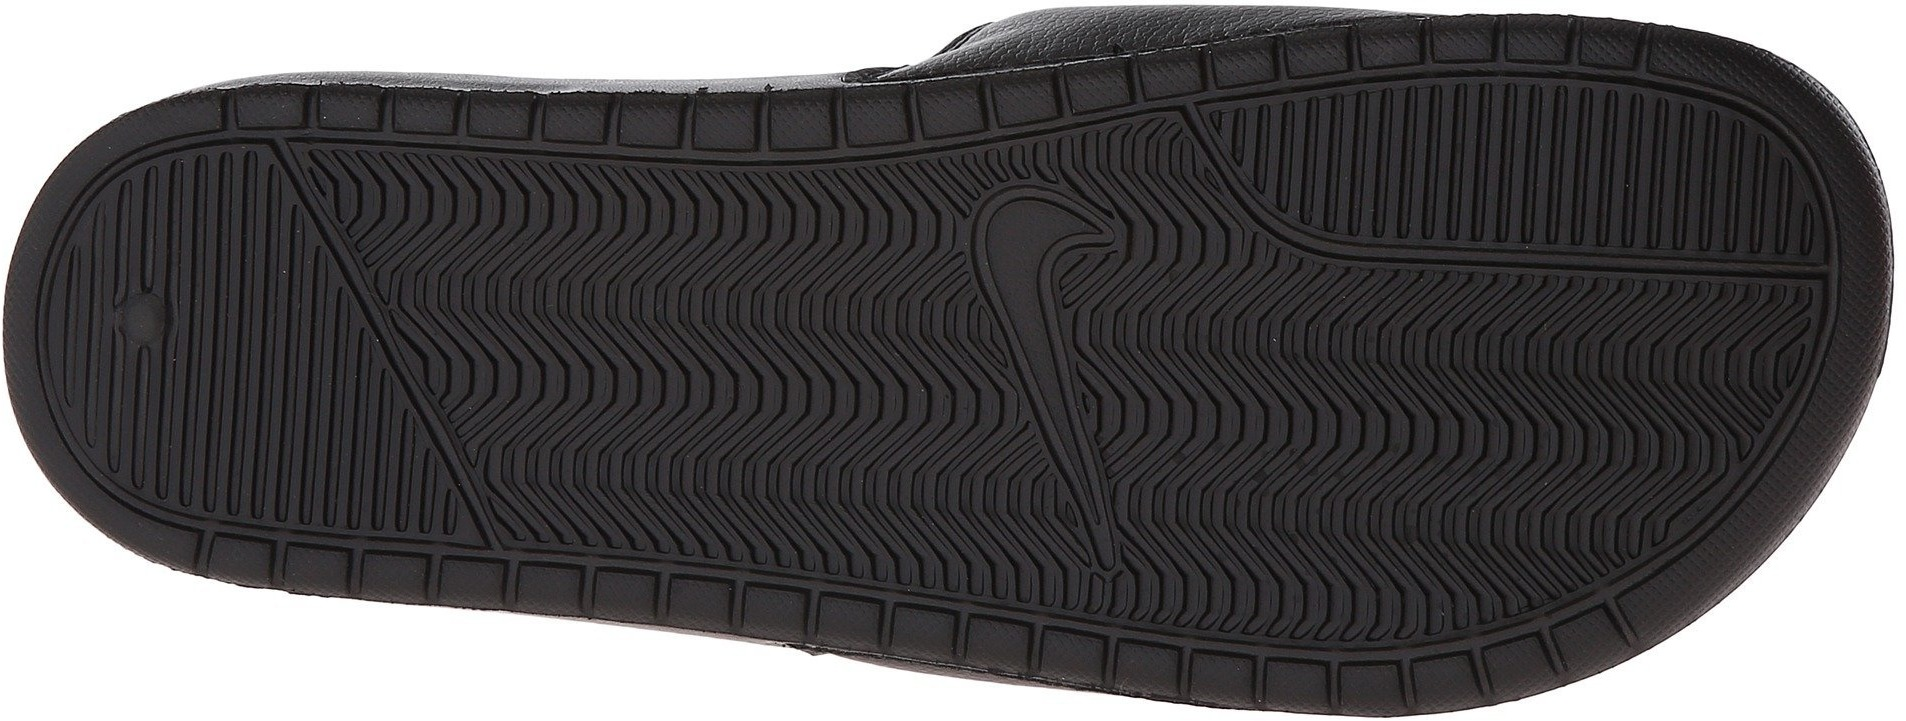chevron: (498, 160, 931, 564), (1165, 265, 1533, 598), (929, 154, 1163, 381)
line: (198, 342, 374, 512), (1534, 83, 1703, 255), (1349, 78, 1519, 240), (171, 178, 287, 291)
